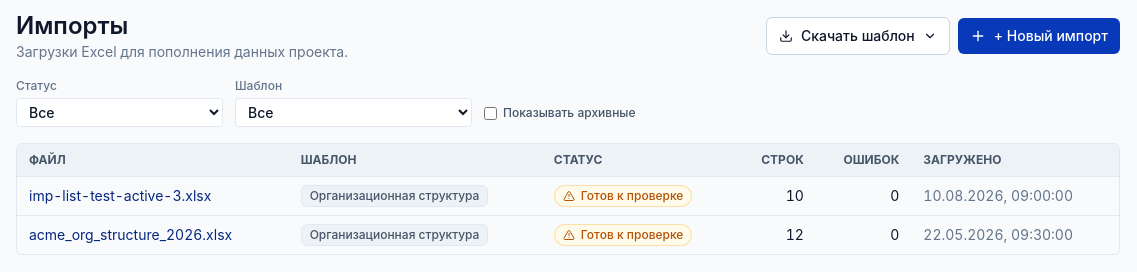
Test: ImportListPage › still lets the existing status filter dropdown select ARCHIVED explicitly
The width and height of the screenshot is (1137, 272).
Check: the link with test id "import-row-imp-list-test-active-3" is shown, box left=29, top=187, right=211, bottom=204
Select "Архив" in the dropdown with test id "import-list-filter-status": (120, 112) left=16, top=98, right=223, bottom=127
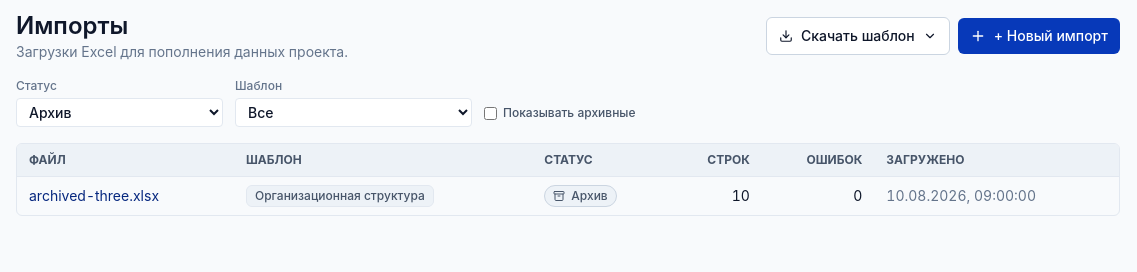
Check: the link with test id "import-row-imp-list-test-archived-3" is shown, box left=29, top=187, right=159, bottom=204
Check: the link with test id "import-row-imp-list-test-active-3" is gone
